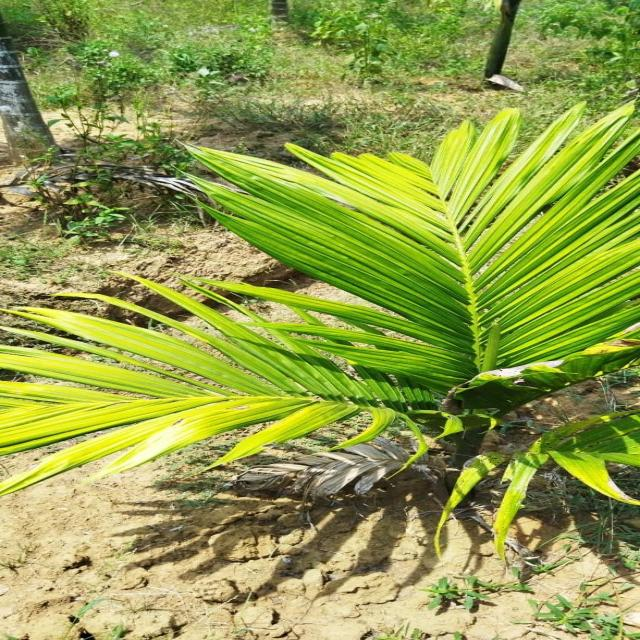Healthy_Leaf: (29, 126, 526, 426)
